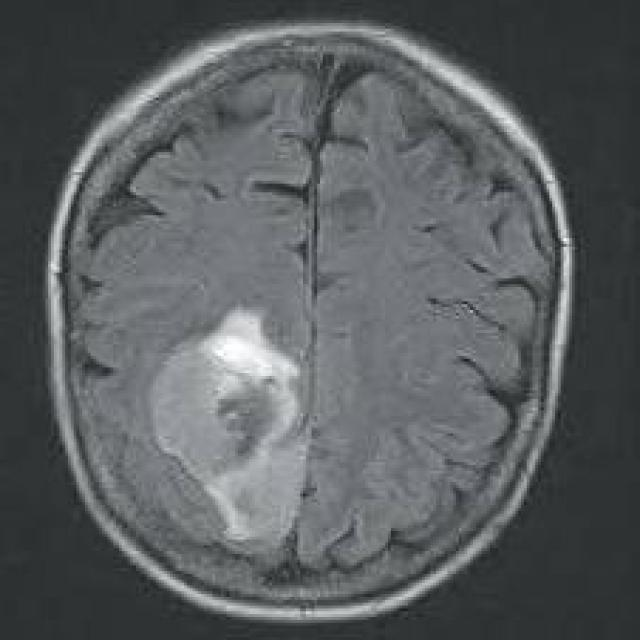Tumor-Cell: (158, 316, 322, 511)
